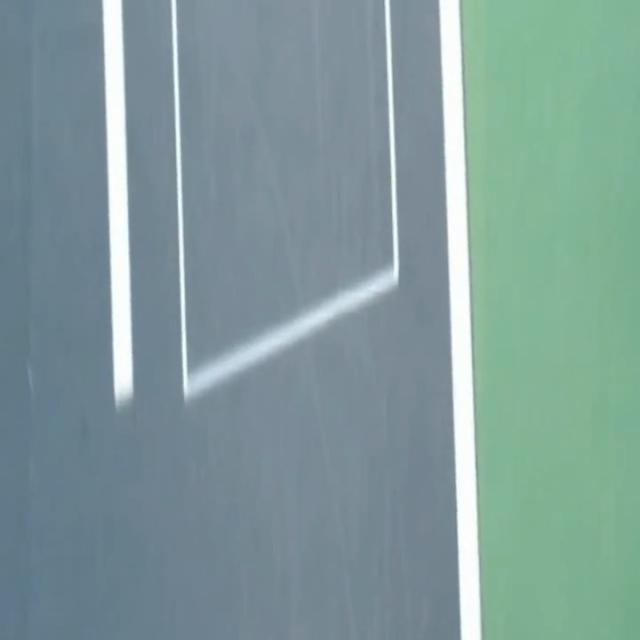center: (102, 0, 132, 406)
right: (439, 0, 481, 639)
